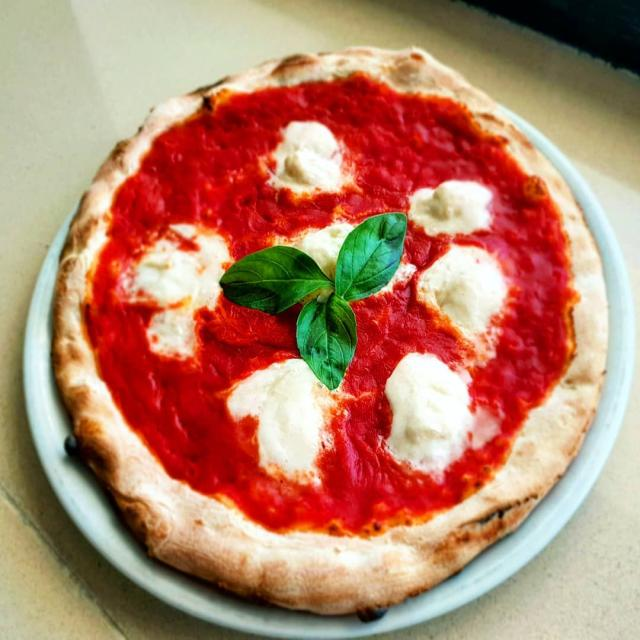basil: (218, 244, 332, 318), (332, 210, 409, 306), (295, 294, 359, 392)
pizza: (48, 44, 612, 626)
